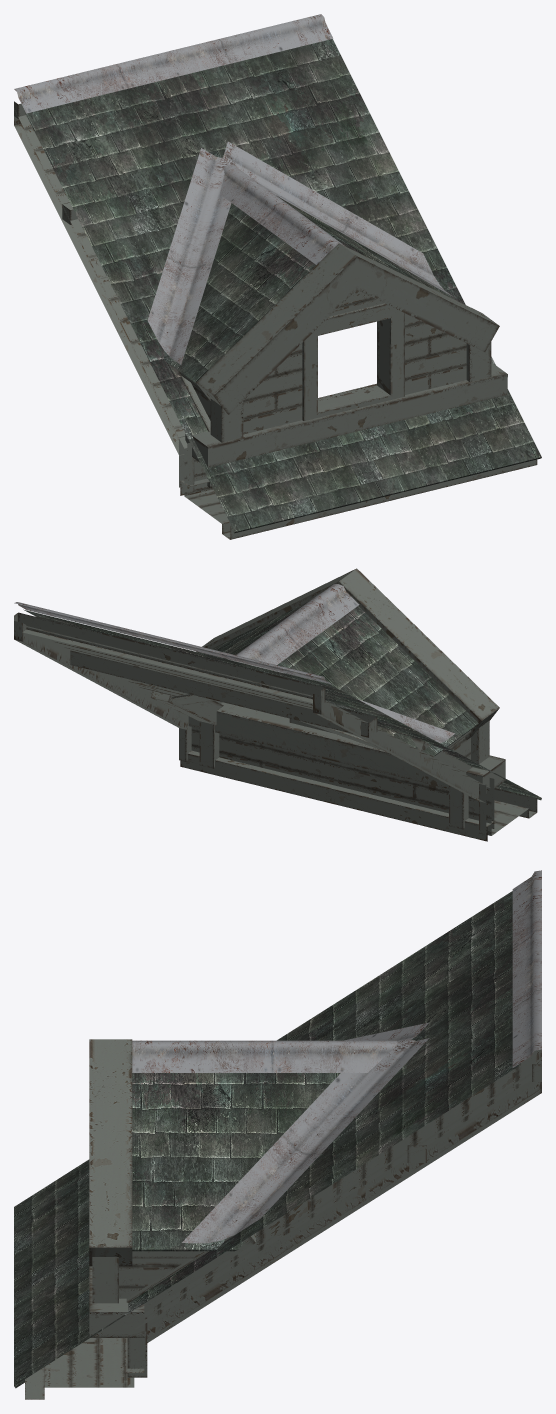
The model's file is SM_Roof400x400Window.FBX.
The picture shows the model from 3 angles, top to bottom: view 1: azimuth 30°, elevation 25°; view 2: azimuth 150°, elevation 25°; view 3: azimuth 270°, elevation 25°; orthographic projection. The views are drawn at different scales.
Visible parts, largest first — view 1: SM_Roof400x400Window; view 2: SM_Roof400x400Window; view 3: SM_Roof400x400Window.
Part boxes in pixels (x1=…): SM_Roof400x400Window: x1=14, y1=14, x2=541, y2=539; SM_Roof400x400Window: x1=14, y1=568, x2=541, y2=841; SM_Roof400x400Window: x1=14, y1=870, x2=541, y2=1399.
Bounding box in the file's own units: 400 × 364 × 498.
